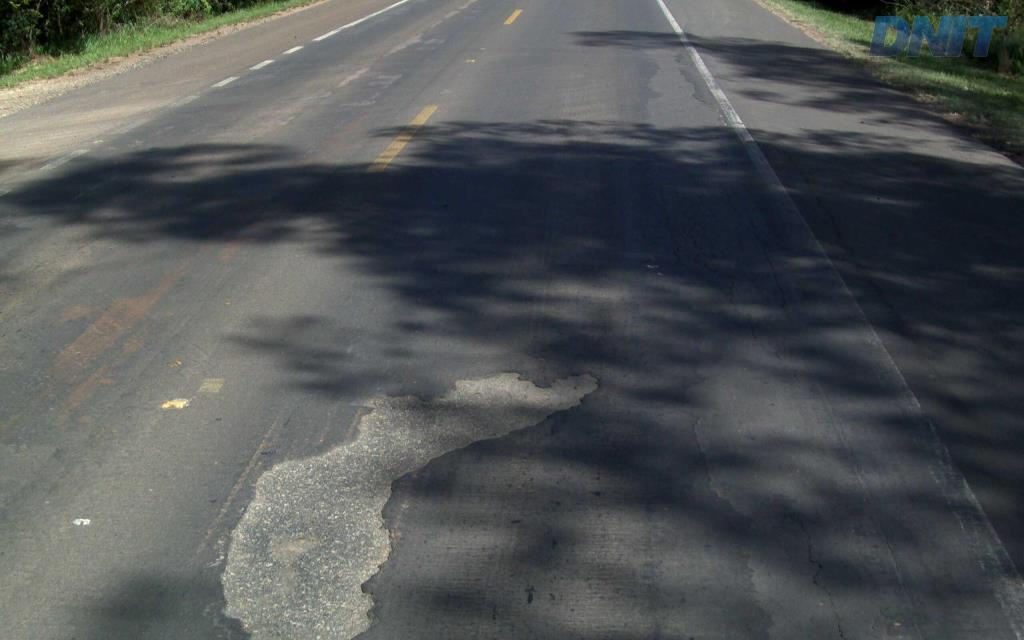pothole: (211, 353, 608, 638)
